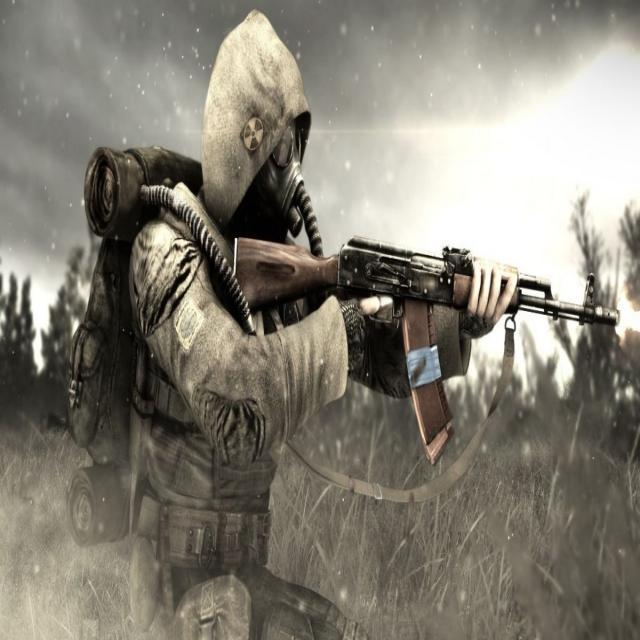ak: (227, 224, 615, 466)
